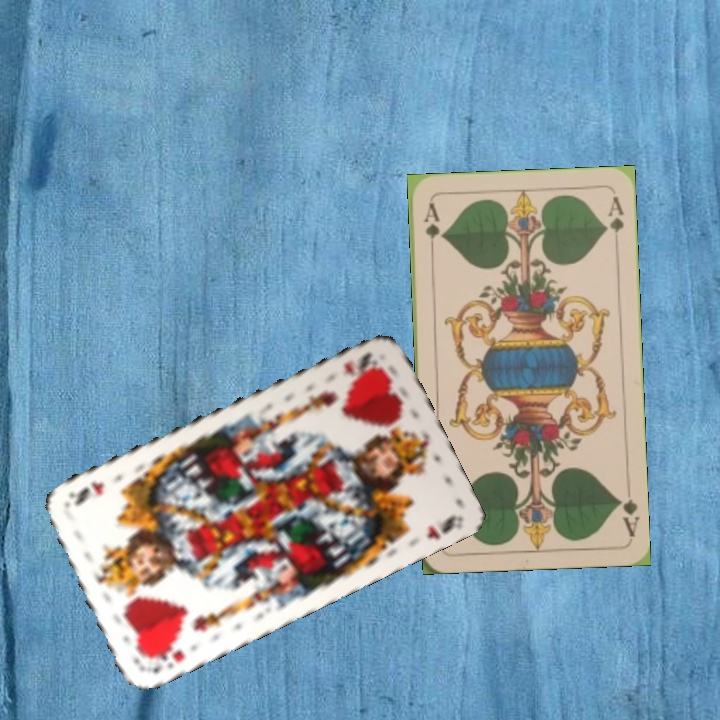GA: (419, 199, 442, 257), (613, 494, 641, 540)
HK: (139, 641, 187, 676), (339, 348, 375, 378)
